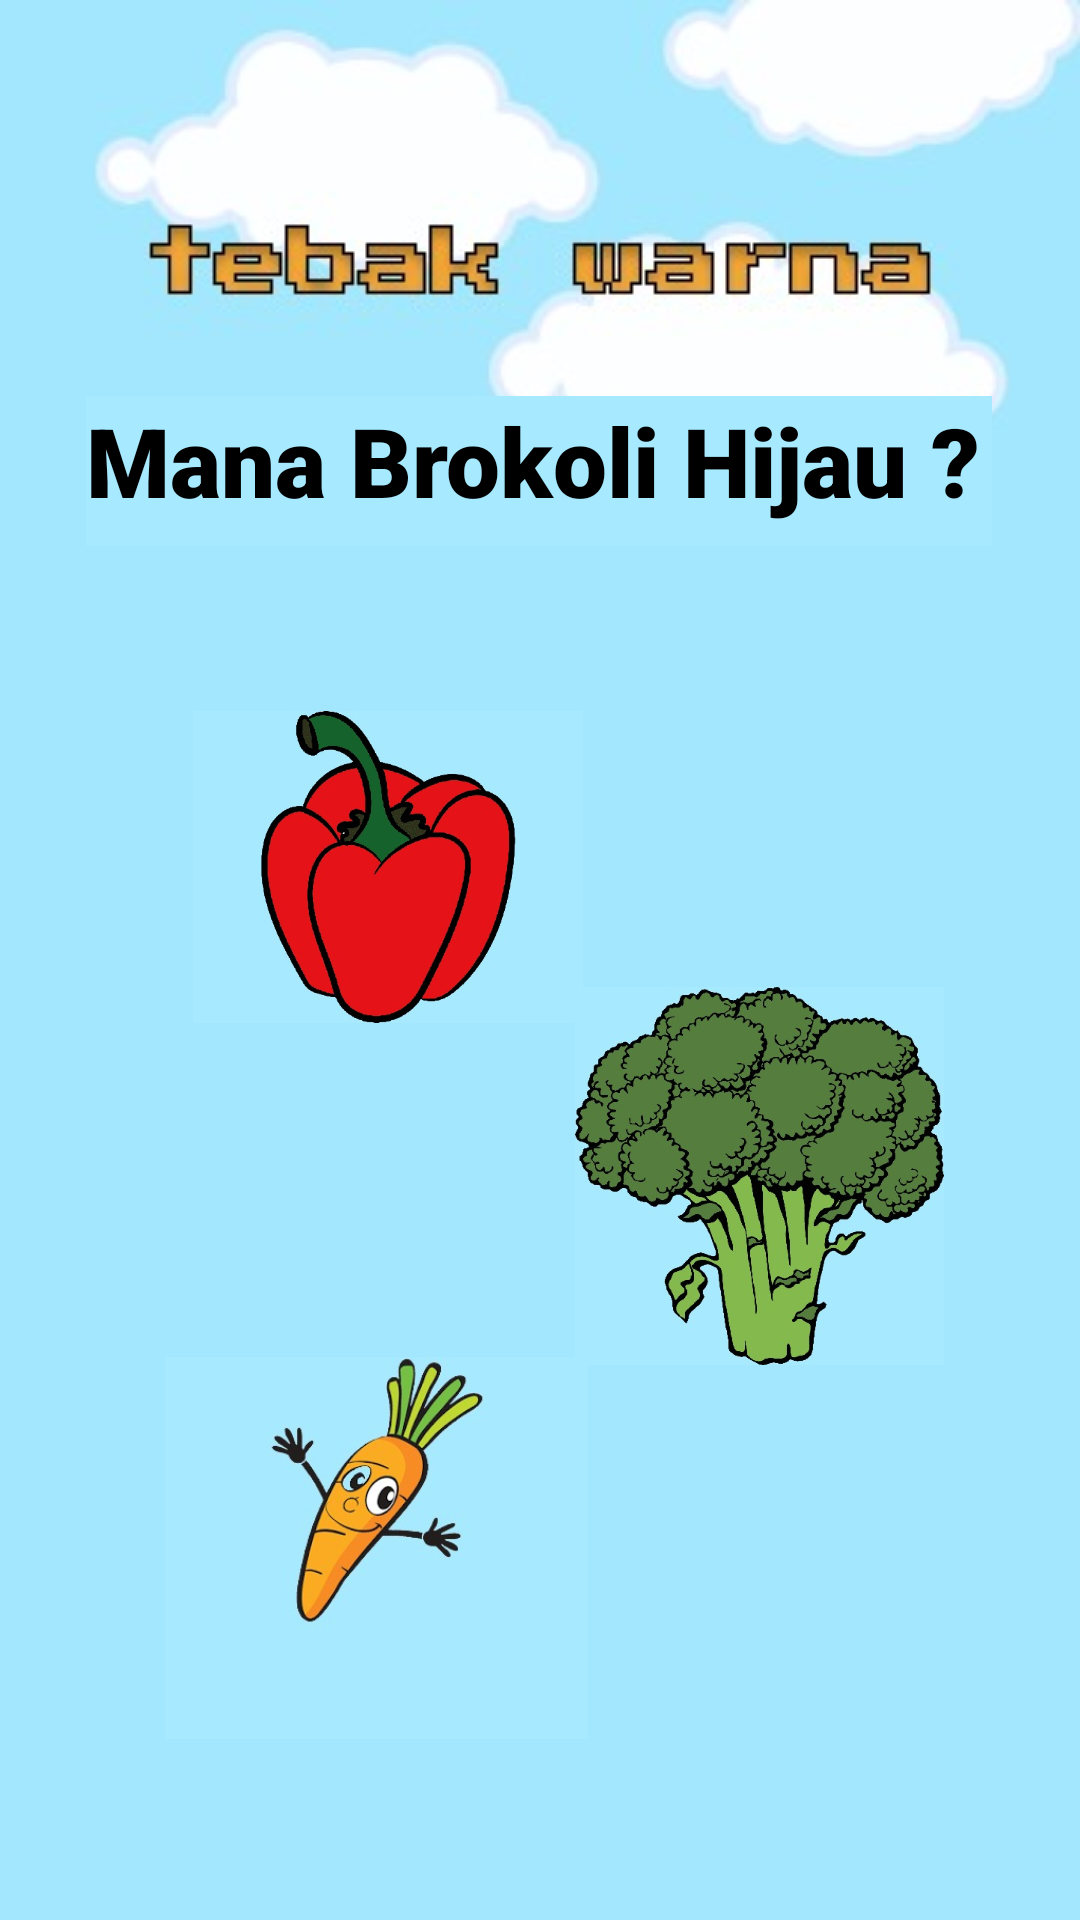

Icons on this 1080px×1920px Android screen, each with the point to tap as (x,y):
paprika: (388,867)
wortel: (377,1490)
